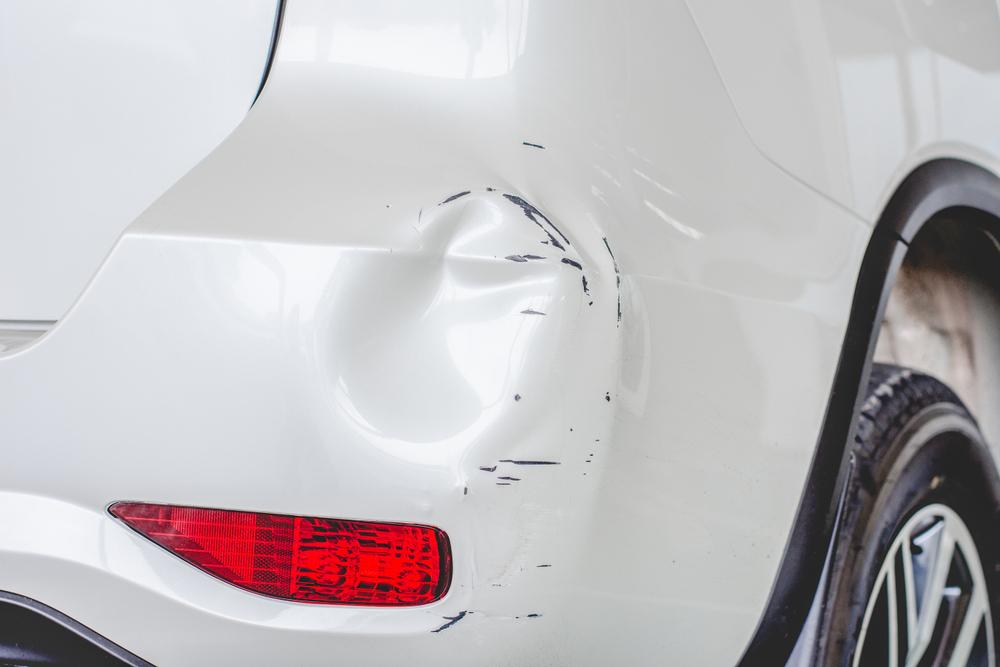dent: (330, 194, 556, 452)
scratch: (424, 181, 632, 652)
